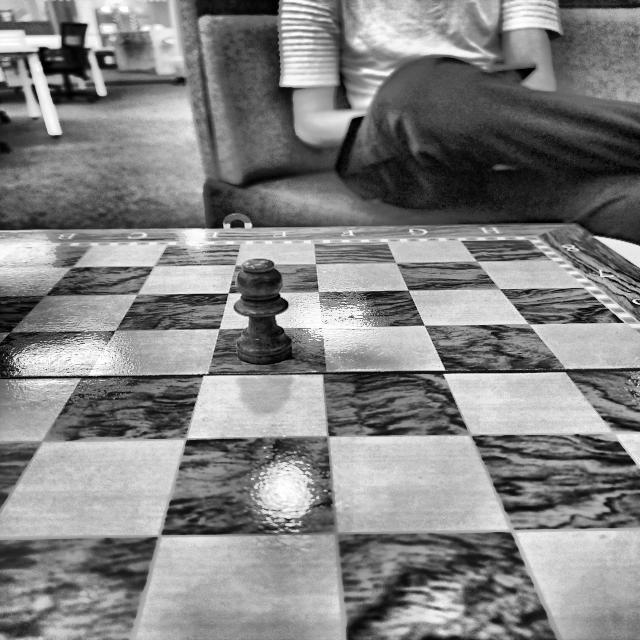black-bishop: (234, 258, 293, 363)
